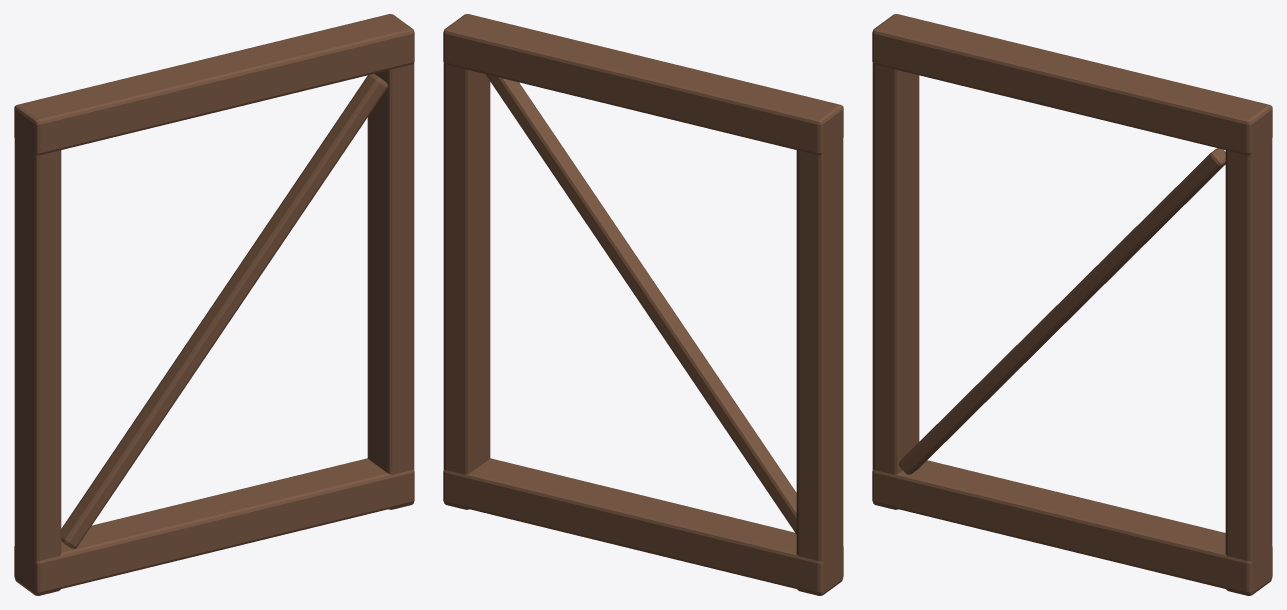
Rendered from wall_plain_2m__structure.glb.
3 renders of one model, left to right at view 1: azimuth 30°, elevation 25°; view 2: azimuth 150°, elevation 25°; view 3: azimuth 330°, elevation 25°, orthographic.
Visible parts, largest first — view 1: wall_plain_2m__structure__mesh_00; view 2: wall_plain_2m__structure__mesh_00; view 3: wall_plain_2m__structure__mesh_00.
Boxes of the visible parts, x1,y1,x2,y2 form: wall_plain_2m__structure__mesh_00: (14,14,414,595); wall_plain_2m__structure__mesh_00: (443,14,843,595); wall_plain_2m__structure__mesh_00: (872,14,1272,595).
Bounding box in the file's own units: 2 × 2.4 × 0.2315.
